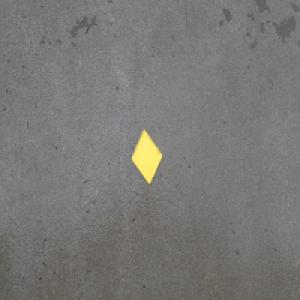PlasticPart: (130, 128, 163, 185)
